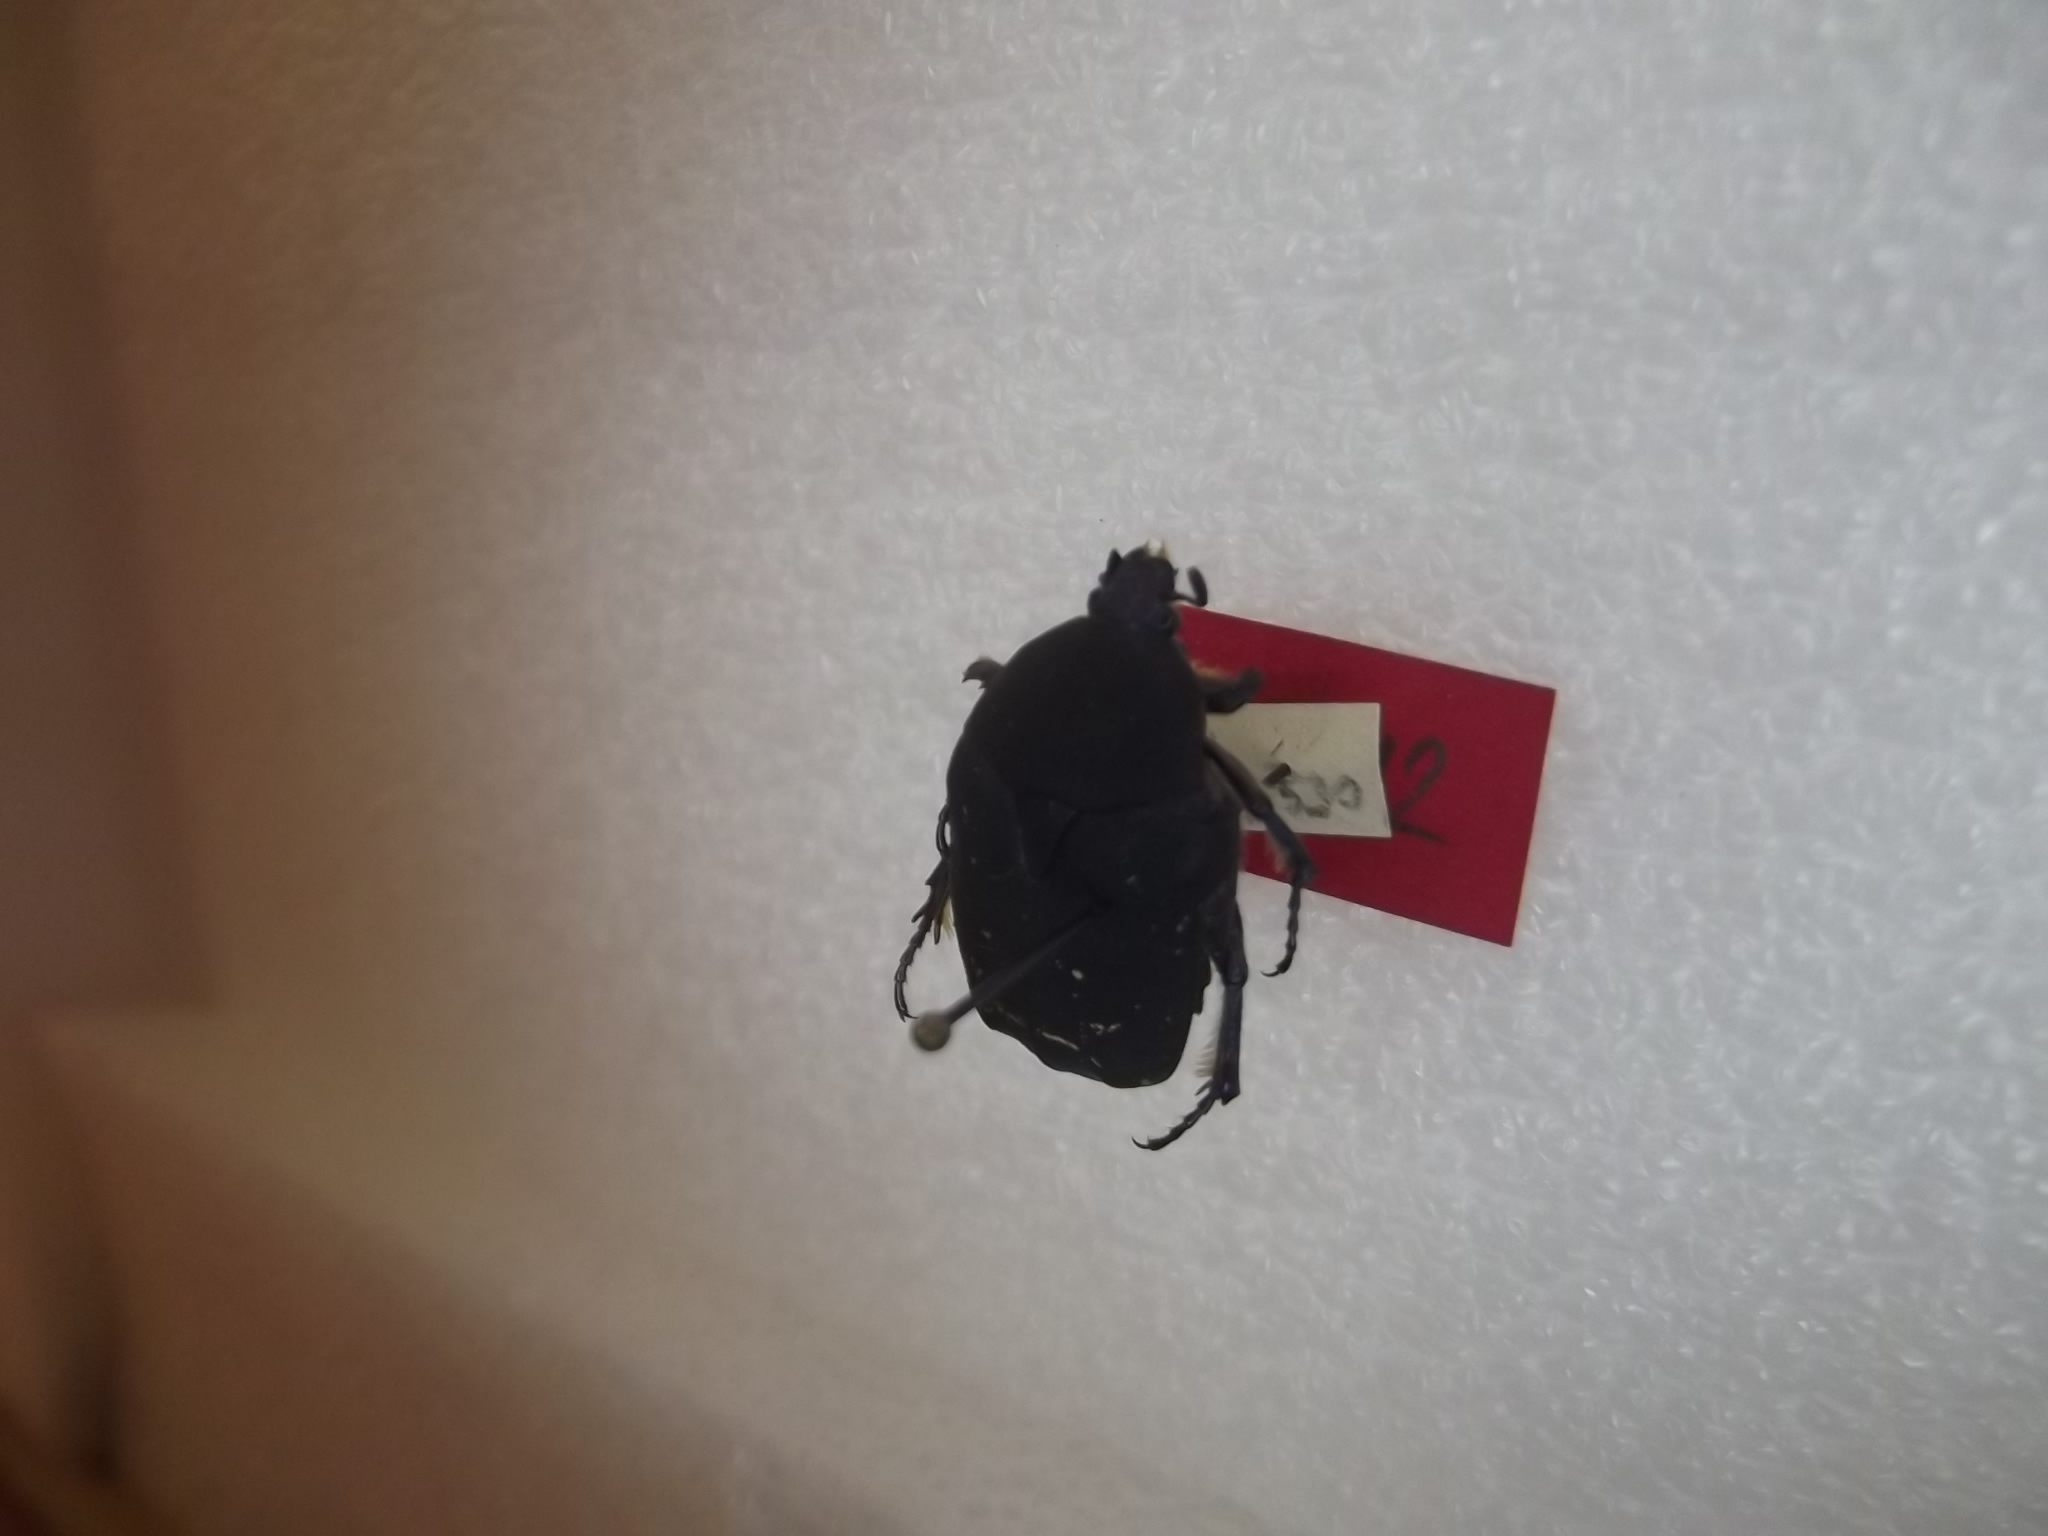Protaetia_ungarica_americana: (868, 505, 1338, 1167)
